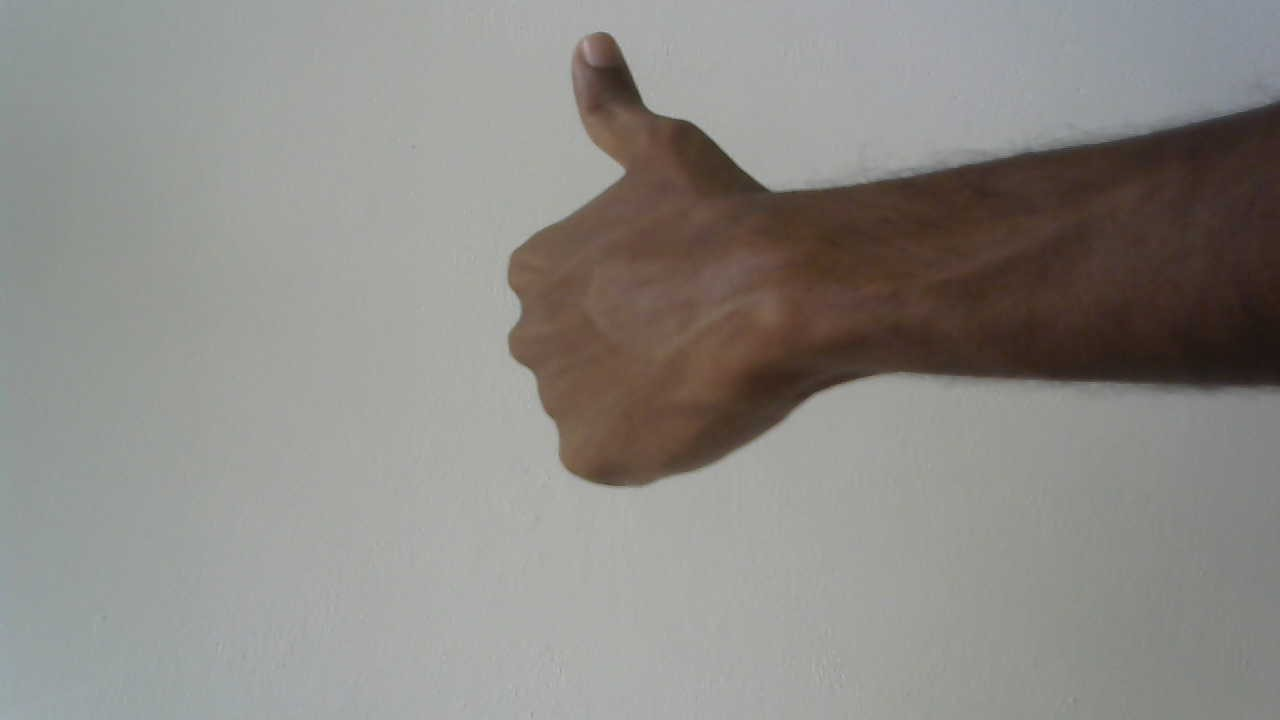thumbsup: (470, 18, 830, 515)
